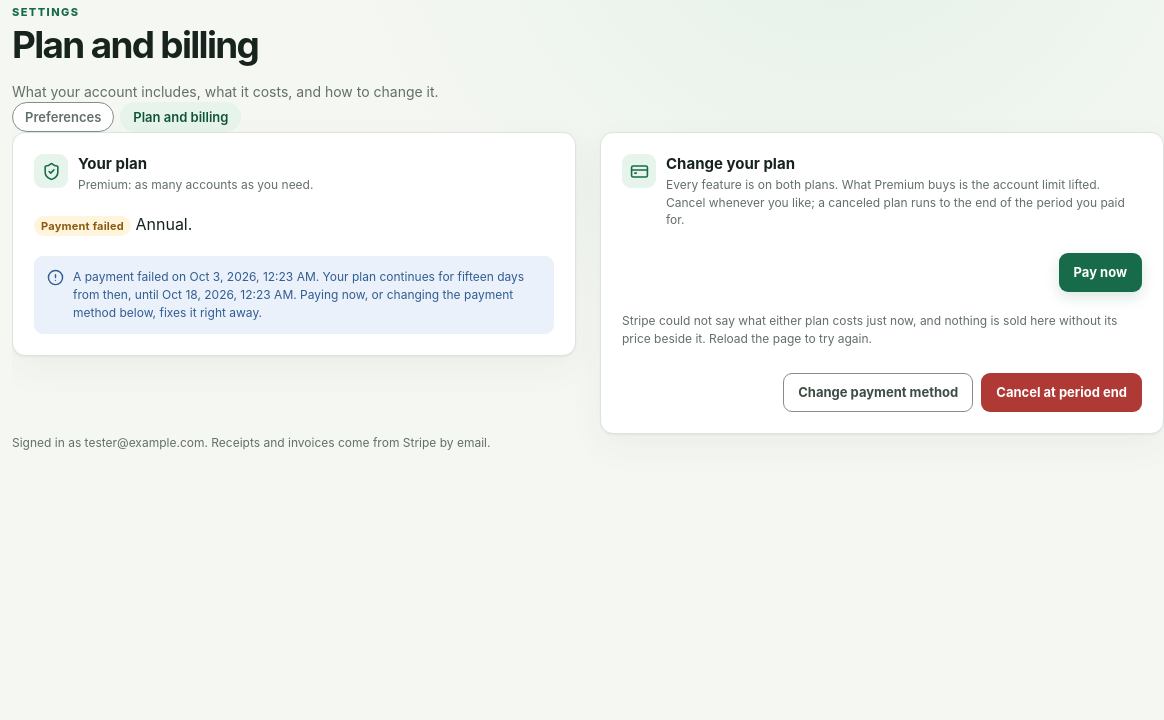
the renewal terms › name no figure Stripe did not give
Click the button "Pay now" at (1100, 272), box [1059,252,1142,292]
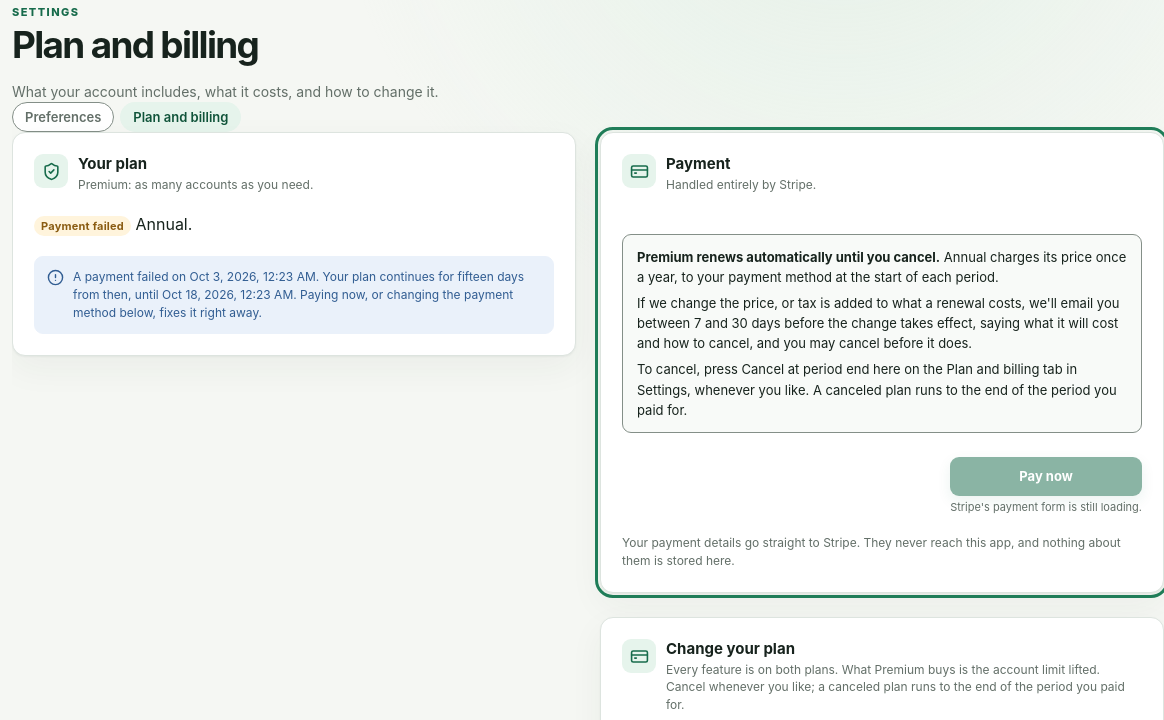
Expected: the text "renews automatically until you cancel" does not show "$", [622,234,1142,433]
Result: the text "renews automatically until you cancel" shows "Annual charges its price once a year, to your payment method" at [622,234,1142,433]
